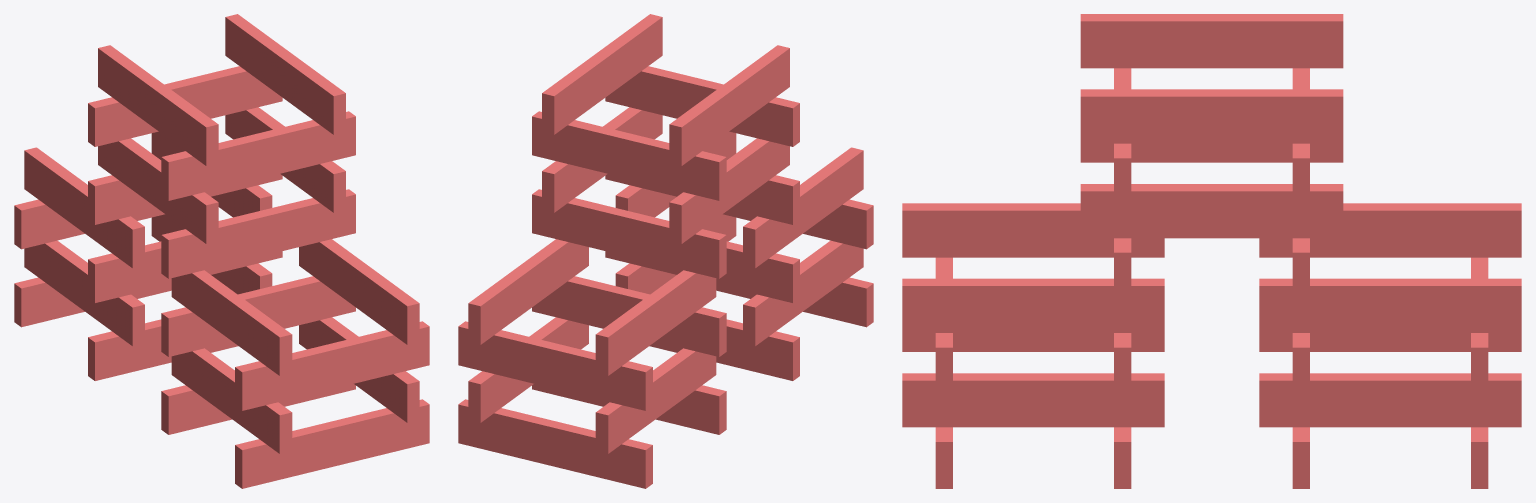
Rendered from keva_three_tower_new.dae.
3 views of the same model, side by side, from view 1: azimuth 30°, elevation 25°; view 2: azimuth 150°, elevation 25°; view 3: azimuth 270°, elevation 25° (orthographic). The views are drawn at different scales.
Visible parts, largest first — view 1: base (×24); view 2: base (×24); view 3: base (×24).
Boxes of the visible parts, <box> form: base (×24): <box>14,14,429,488</box>; base (×24): <box>458,14,873,488</box>; base (×24): <box>902,14,1521,488</box>.
Bounding box in the file's own units: 0.1177 × 0.2777 × 0.187.
